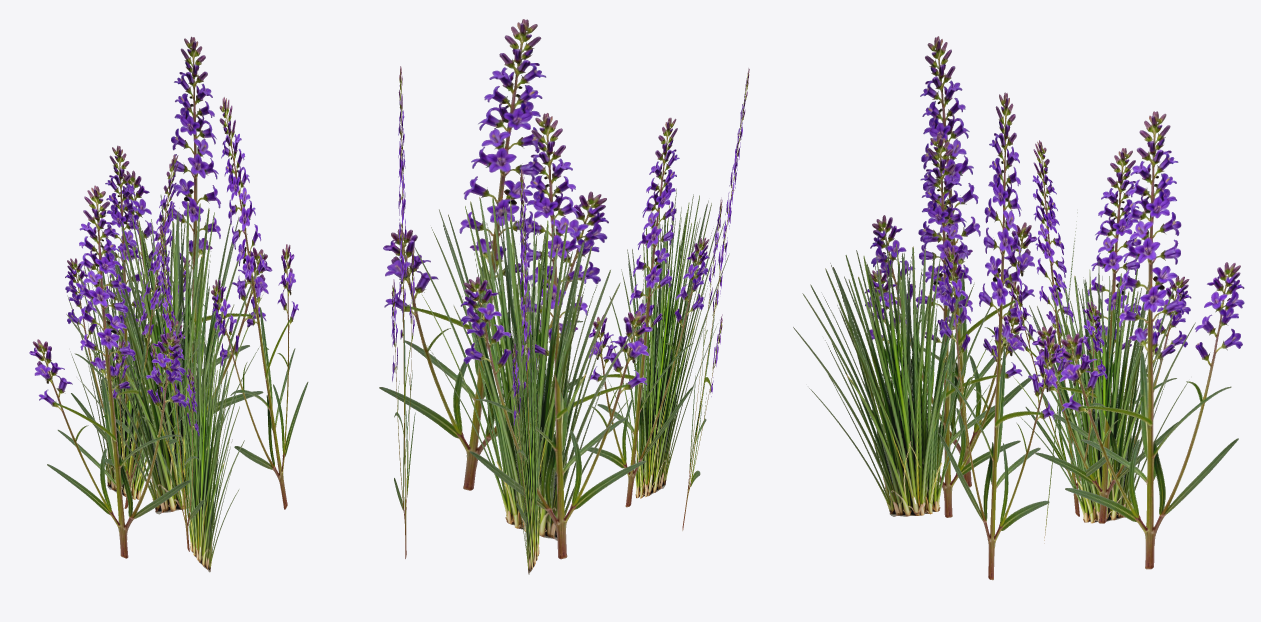
The model's file is flower_clump_02.gltf.
3 renders of one model, left to right at view 1: azimuth 30°, elevation 25°; view 2: azimuth 150°, elevation 25°; view 3: azimuth 270°, elevation 25°, orthographic. The views are drawn at different scales.
Visible parts, largest first — view 1: flower_clump_02; view 2: flower_clump_02; view 3: flower_clump_02.
Boxes of the visible parts, x1,y1,x2,y2 form: flower_clump_02: (29,36,308,572); flower_clump_02: (379,19,749,574); flower_clump_02: (793,36,1244,580).
Bounding box in the file's own units: 0.3965 × 0.509 × 0.4486.
Materials: 1 (1 with a texture image).
